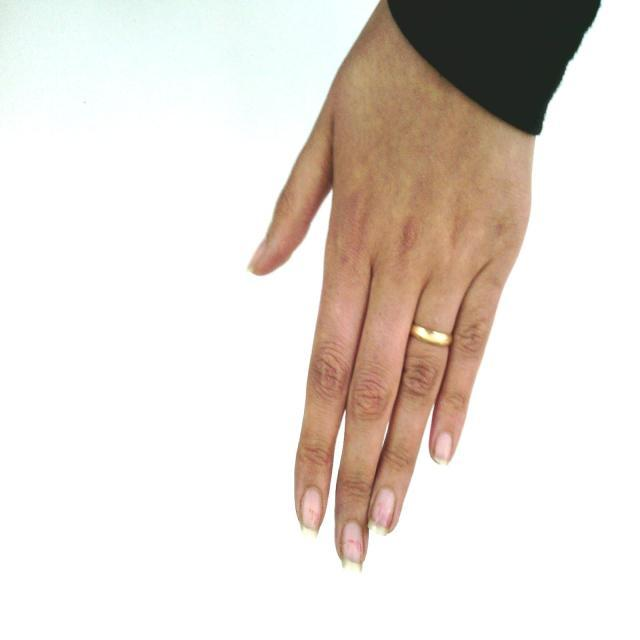Fingernail: (366, 488, 396, 536), (300, 487, 323, 540), (341, 521, 364, 574), (434, 432, 453, 466), (249, 241, 266, 267)
